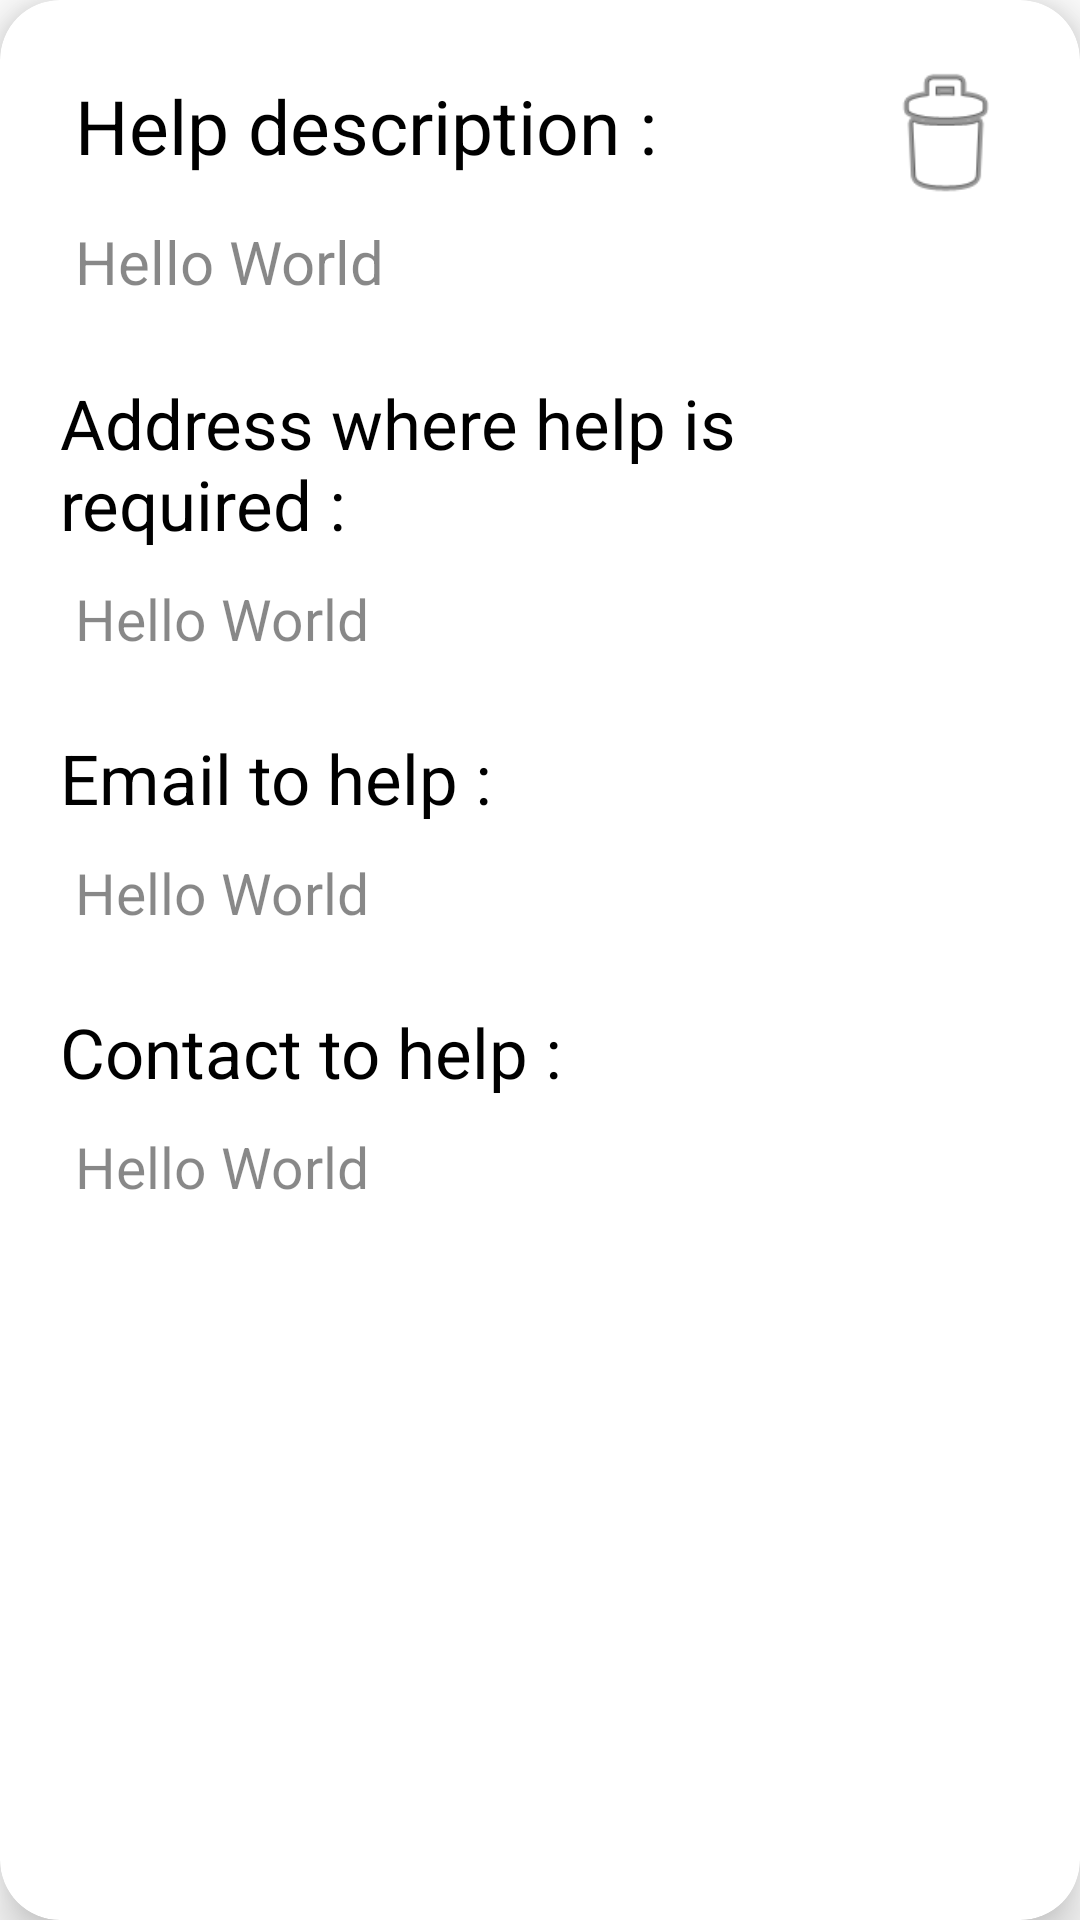

Icon click points for this 1080 x 1920 phone screenshot, format (x,y):
delete: (945,132)
